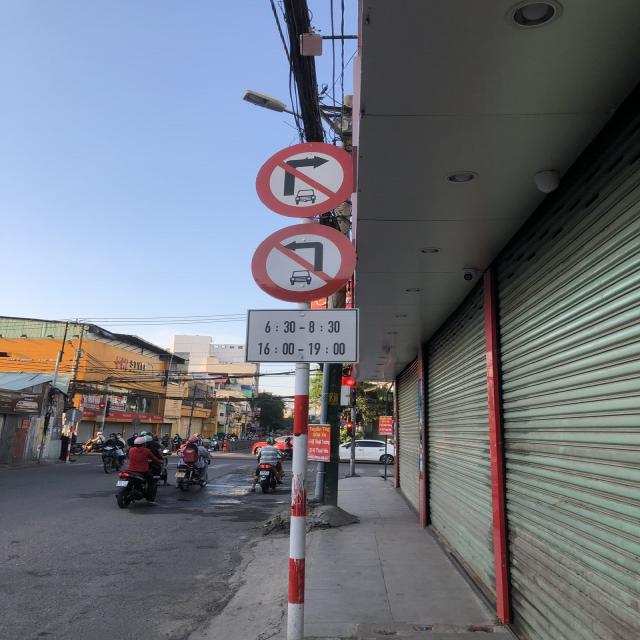Bien bao cam xe o to re phai: (242, 137, 362, 215)
Bien bao cam xe o to re trai: (238, 216, 356, 307)
